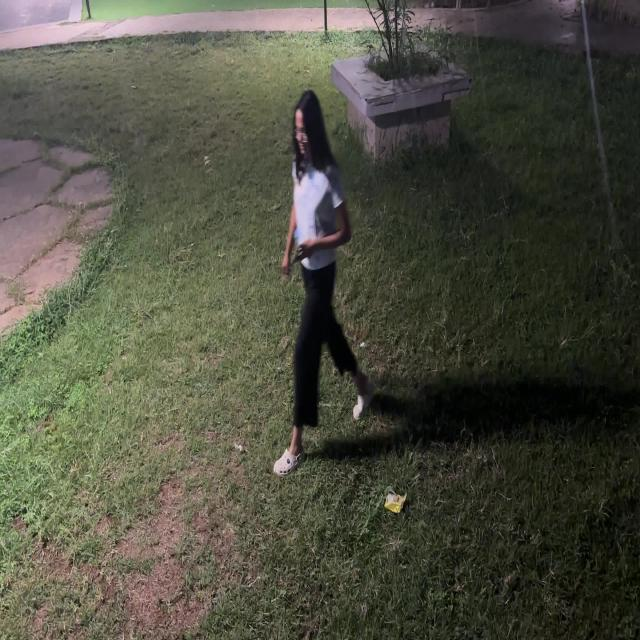human: (264, 83, 376, 486)
trash: (379, 473, 413, 520)
